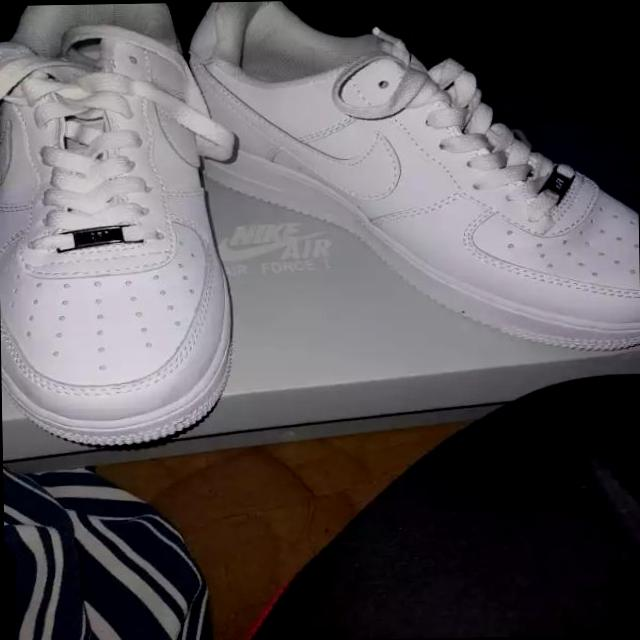nike_fake_airforce: (126, 0, 640, 367), (0, 5, 242, 447)
